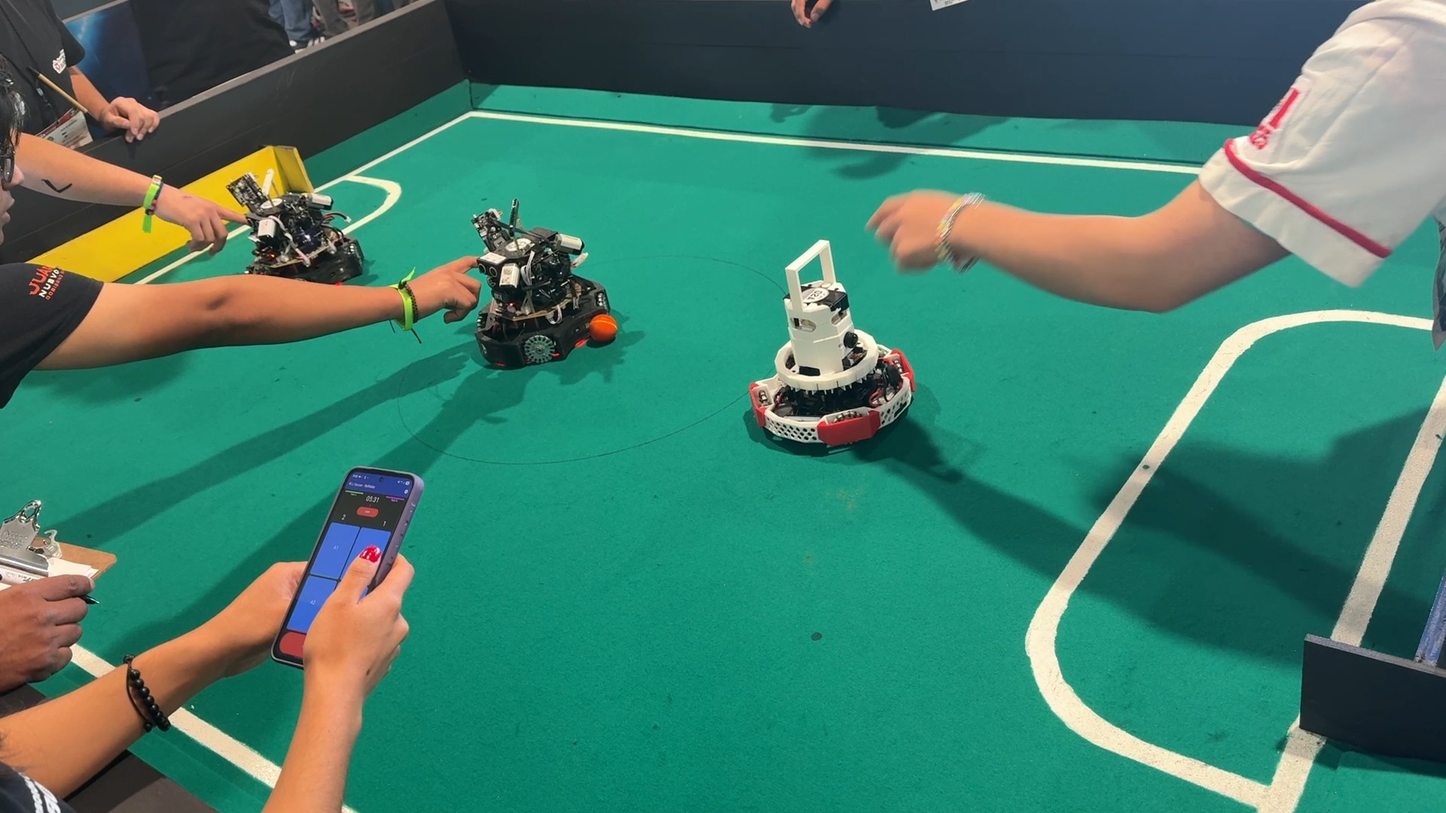Robot: (741, 230, 925, 471), (457, 195, 619, 383), (221, 149, 385, 333)
pelota: (587, 315, 623, 347)
